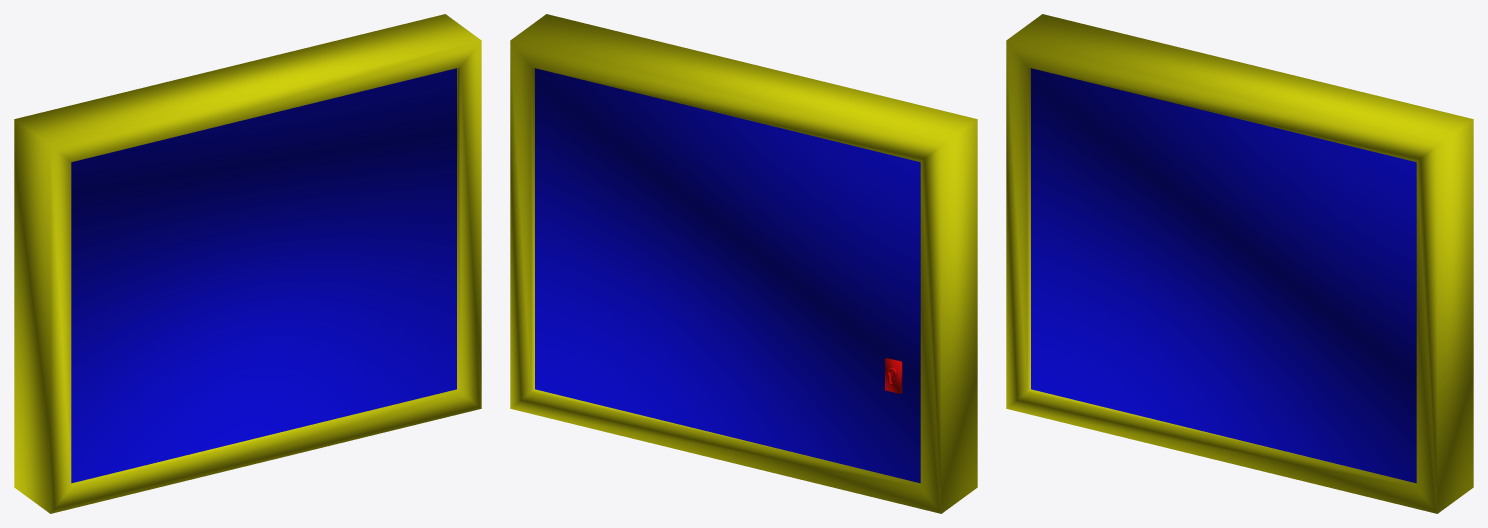
Rendered from Door6_Gizmo.FBX.
The picture shows the model from 3 angles, left to right: view 1: azimuth 30°, elevation 25°; view 2: azimuth 150°, elevation 25°; view 3: azimuth 330°, elevation 25°; orthographic projection.
Visible parts, largest first — view 1: Door6:Box004; view 2: Door6:Box004; view 3: Door6:Box004.
Boxes of the visible parts, x1,y1,x2,y2 form: Door6:Box004: [14, 14, 481, 513]; Door6:Box004: [510, 14, 977, 513]; Door6:Box004: [1006, 14, 1473, 513].
Bounding box in the file's own units: 131 × 107 × 18.96.
